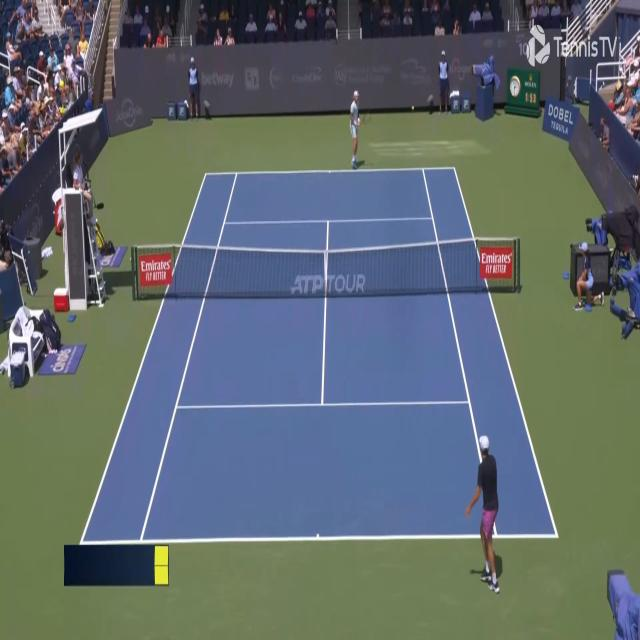tennis-player: (464, 434, 504, 594), (349, 87, 362, 171)
